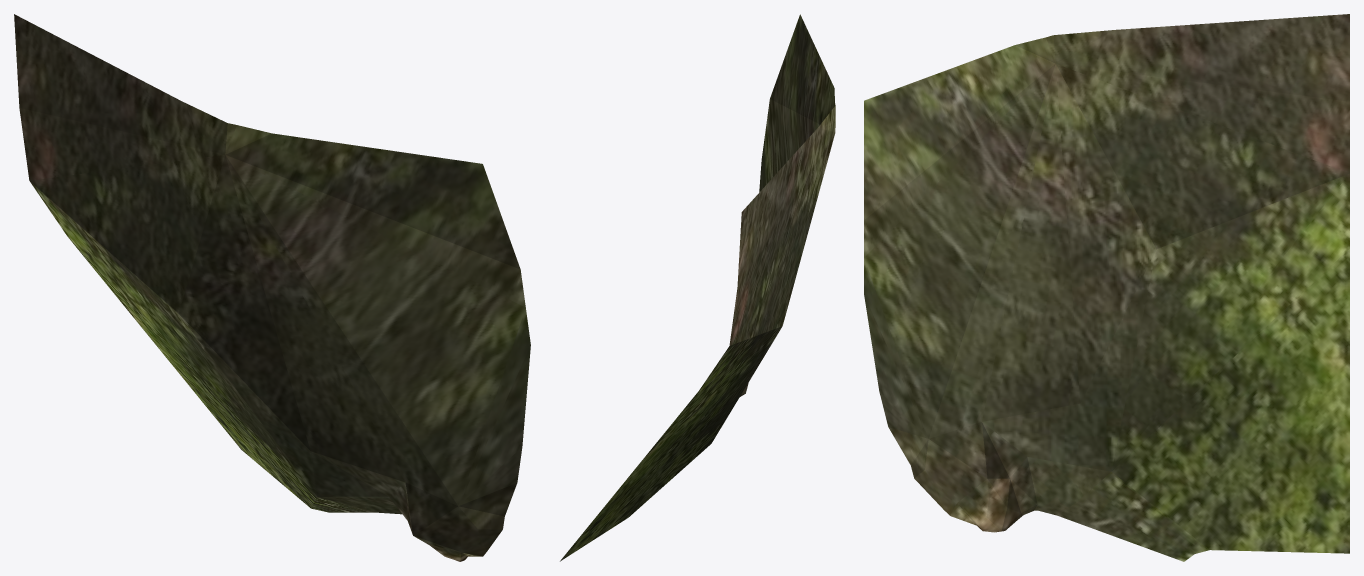
3 views of the same model, side by side, from view 1: azimuth 30°, elevation 25°; view 2: azimuth 150°, elevation 25°; view 3: azimuth 270°, elevation 25° (orthographic). The views are drawn at different scales.
Size of the model in its own units: 1.55 by 2.95 by 2.95.
3 materials, 3 textured.
